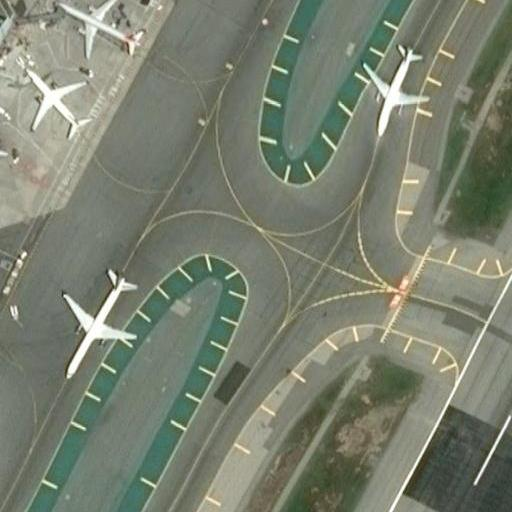Aircraft: (55, 266, 138, 375), (359, 32, 430, 143), (23, 67, 81, 139), (67, 0, 136, 51)
